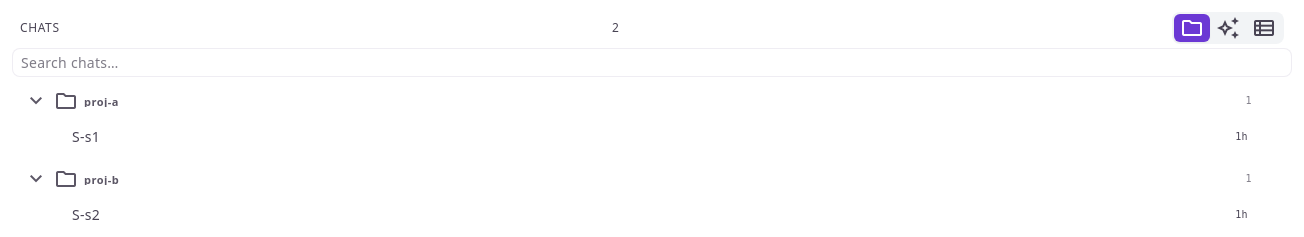
Test: project rename (F2, now registry-backed — P-U2) › renames a project folder via double-click and commits through the engine registry
Double-click the button "proj-a 1".
double_click(101, 101)  # box [12,81,1264,117]
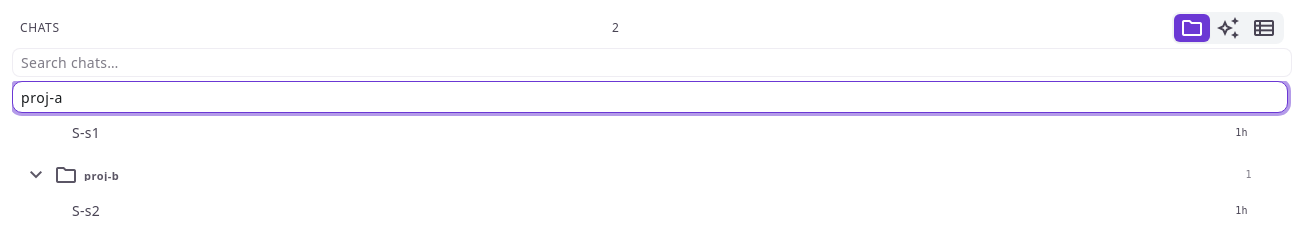
Replace the text in the field with "My Project" at (650, 97), box [12,81,1288,113]
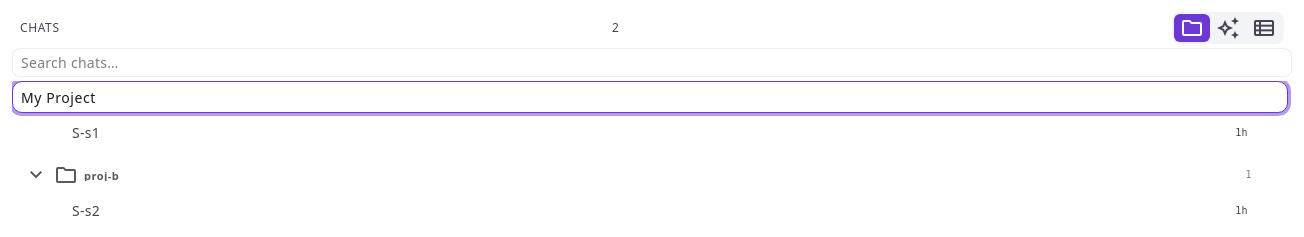
Press Enter in the field, box [12,81,1288,113]
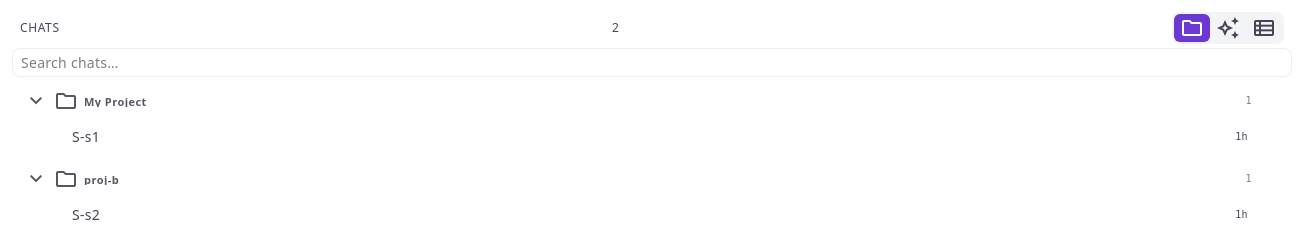
Expected: the text "My Project" is shown, [84,94,147,108]
